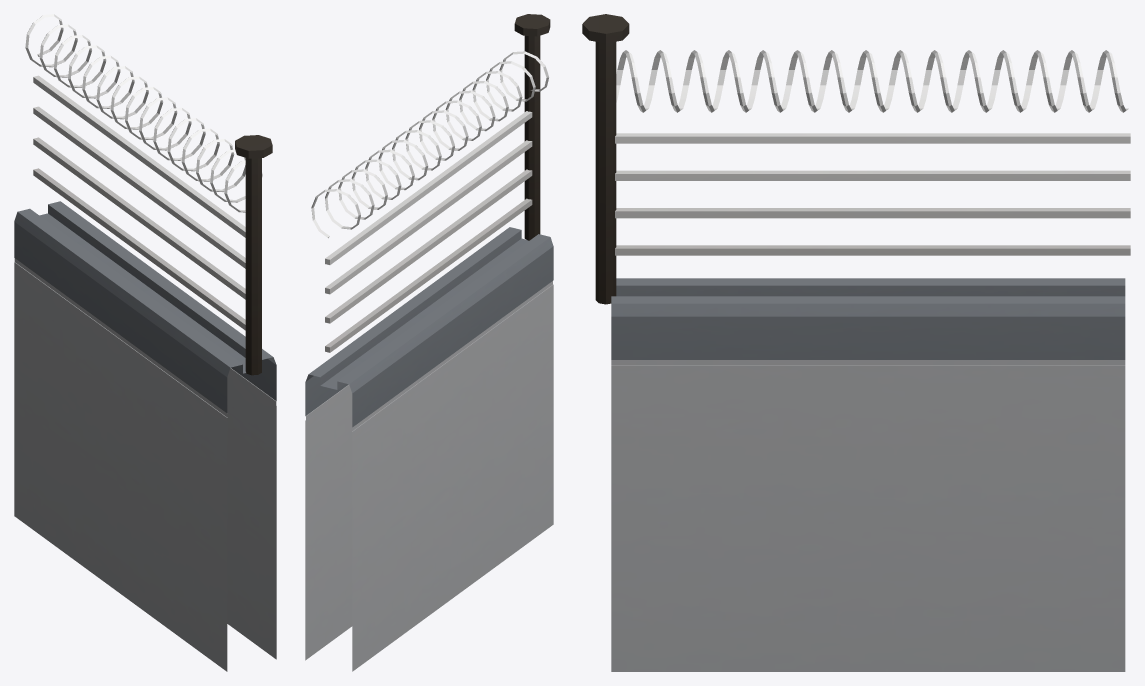
File: muro2.fbx
3 renders of one model, left to right at view 1: azimuth 30°, elevation 25°; view 2: azimuth 150°, elevation 25°; view 3: azimuth 270°, elevation 25°, orthographic. The views are drawn at different scales.
Parts seen in each view (by area): view 1: centro3; view 2: centro3; view 3: centro3.
Boxes of the visible parts, x1=… form: centro3: x1=14, y1=14, x2=276, y2=671; centro3: x1=305, y1=14, x2=553, y2=671; centro3: x1=582, y1=14, x2=1130, y2=671.
Bounding box in the file's own units: 217 × 2200 × 1726.
